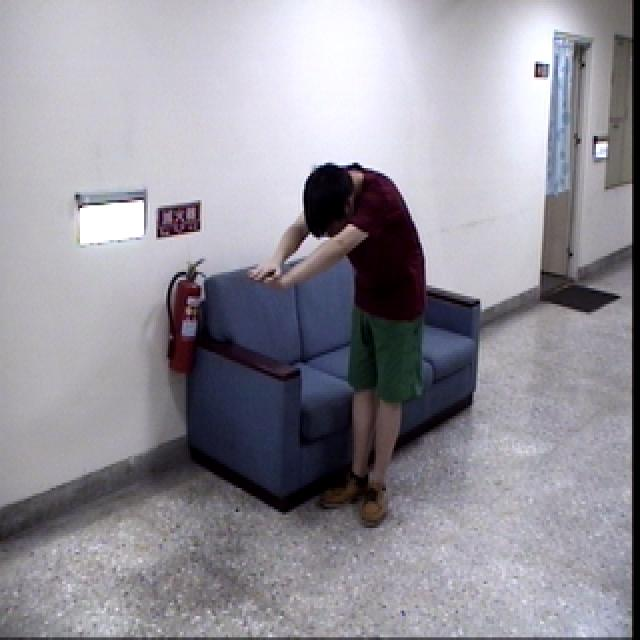bend: (245, 159, 430, 526)
